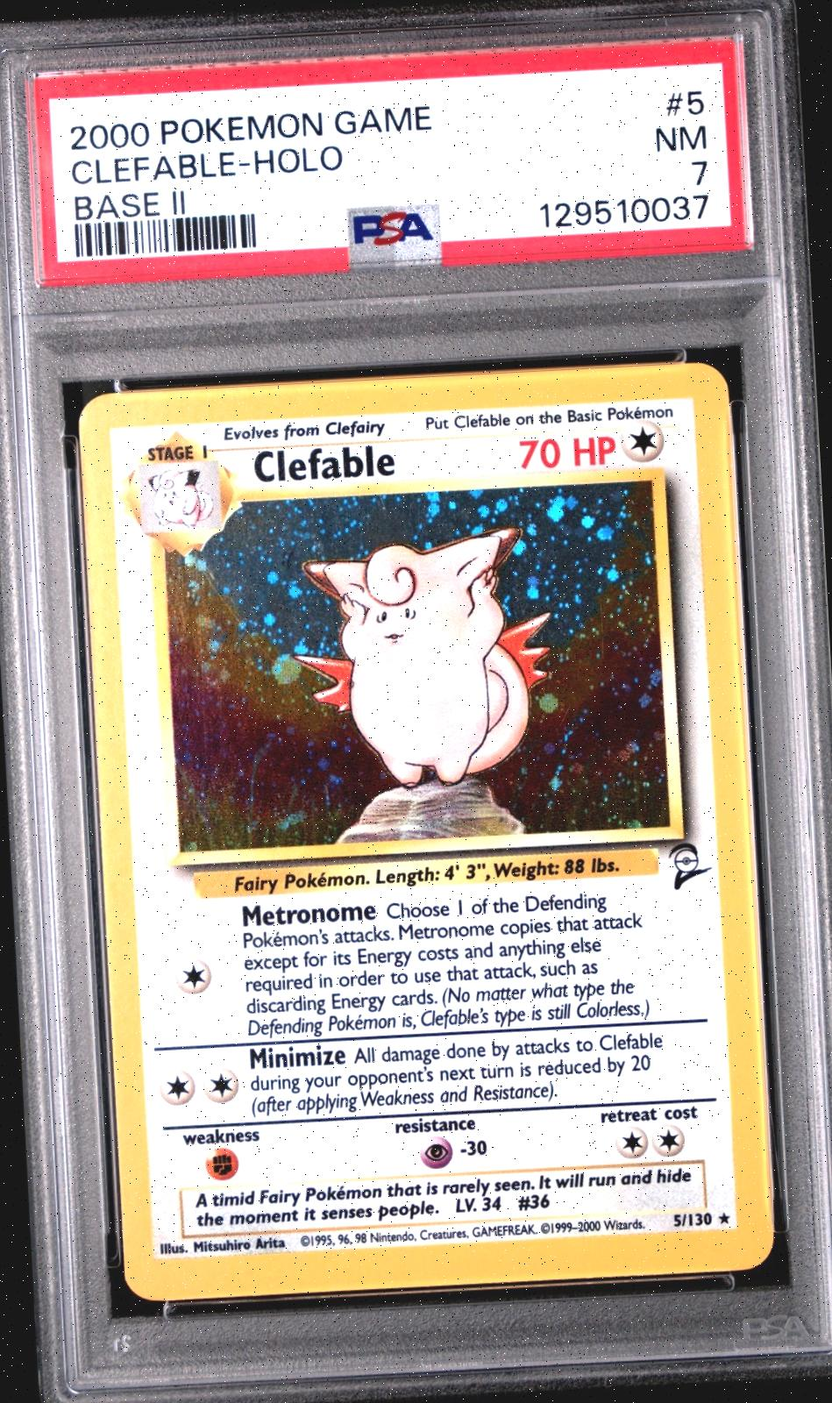card-2UtV: (77, 361, 775, 1301)
